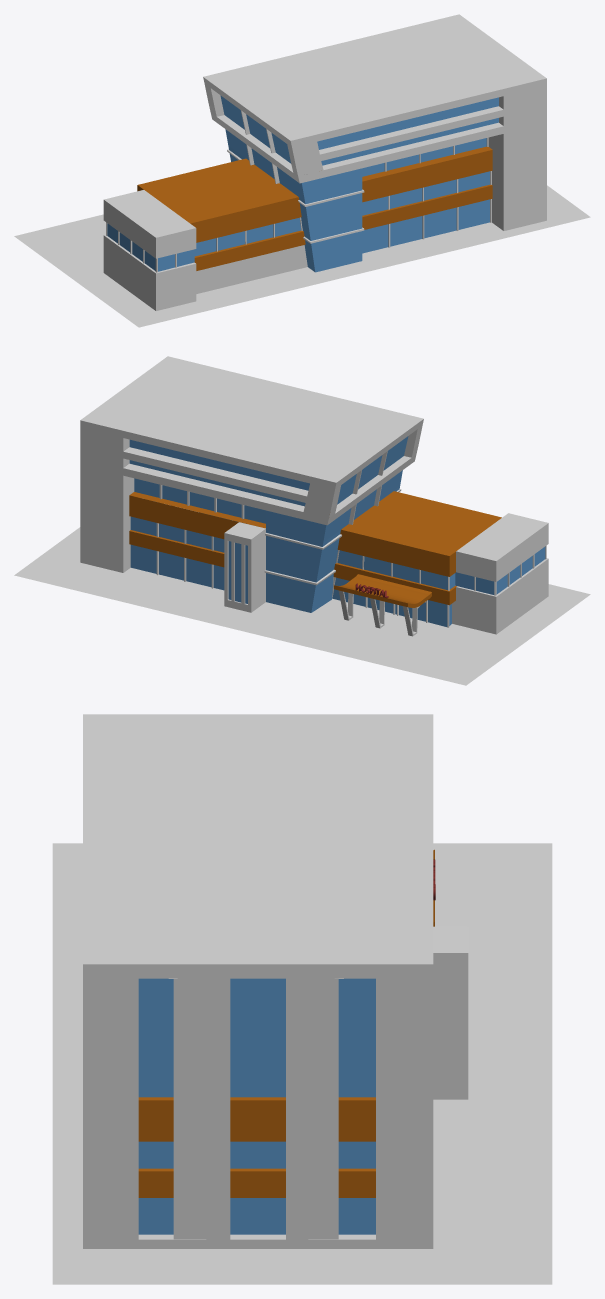
File: hospital.fbx
The picture shows the model from 3 angles, top to bottom: view 1: azimuth 30°, elevation 25°; view 2: azimuth 150°, elevation 25°; view 3: azimuth 270°, elevation 25°; orthographic projection. The views are drawn at different scales.
Parts seen in each view (by area): view 1: walls, windows.back.rest, windows.back, windows.top, windows.front.R, windows.block; view 2: walls, windows.top, windows.front.rest, windows.front.R, front.roof, entrance, windows.front.first, windows.block, front; view 3: walls.
Part boxes in pixels (x1,y1,x2,y2): walls: (14,14,590,327); windows.back.rest: (362,199,491,253); windows.back: (362,137,491,215); windows.top: (220,95,304,201); windows.front.R: (194,217,302,256); windows.block: (106,222,194,272); walls: (14,356,590,685); windows.top: (323,436,408,542); windows.front.rest: (130,544,224,590); windows.front.R: (335,550,449,590); front.roof: (334,574,431,607); entrance: (332,577,449,627); windows.front.first: (130,516,224,552); windows.block: (455,545,546,595); front: (338,590,419,636); walls: (52,714,552,1284).
Bounding box in the file's own units: 15316 × 4606 × 7327.
